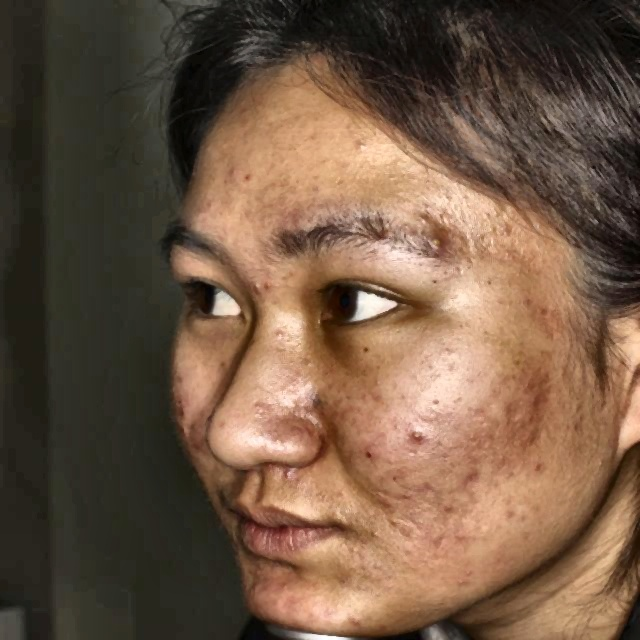pustule: (528, 389, 564, 426), (447, 464, 488, 492), (426, 229, 457, 262), (282, 579, 308, 614), (168, 408, 198, 437), (372, 478, 401, 505), (408, 421, 434, 451), (451, 567, 476, 597), (243, 567, 267, 597), (418, 202, 437, 230), (251, 274, 270, 294)
